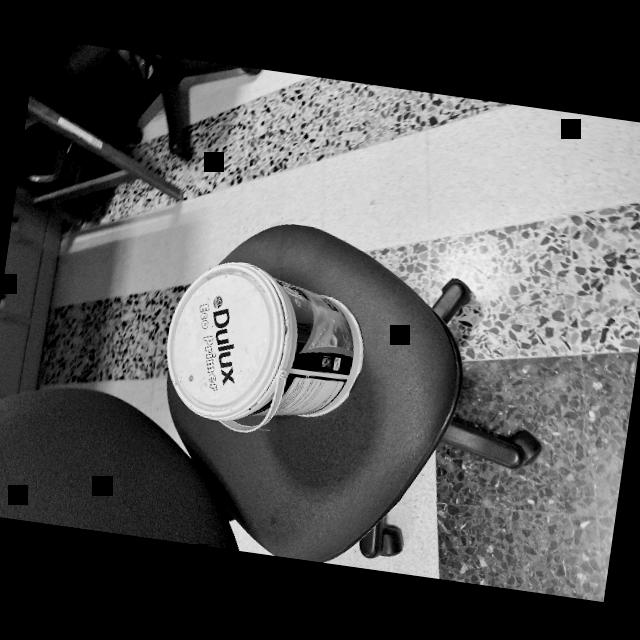paint_bucket: (157, 252, 378, 448)
